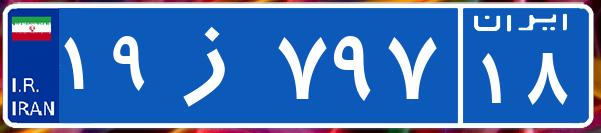1: (57, 26, 110, 107), (475, 38, 525, 113)
7: (385, 28, 445, 110), (273, 28, 330, 110)
8: (525, 38, 570, 115)
9: (330, 28, 385, 110), (110, 28, 158, 105)
ز: (158, 15, 273, 115)
